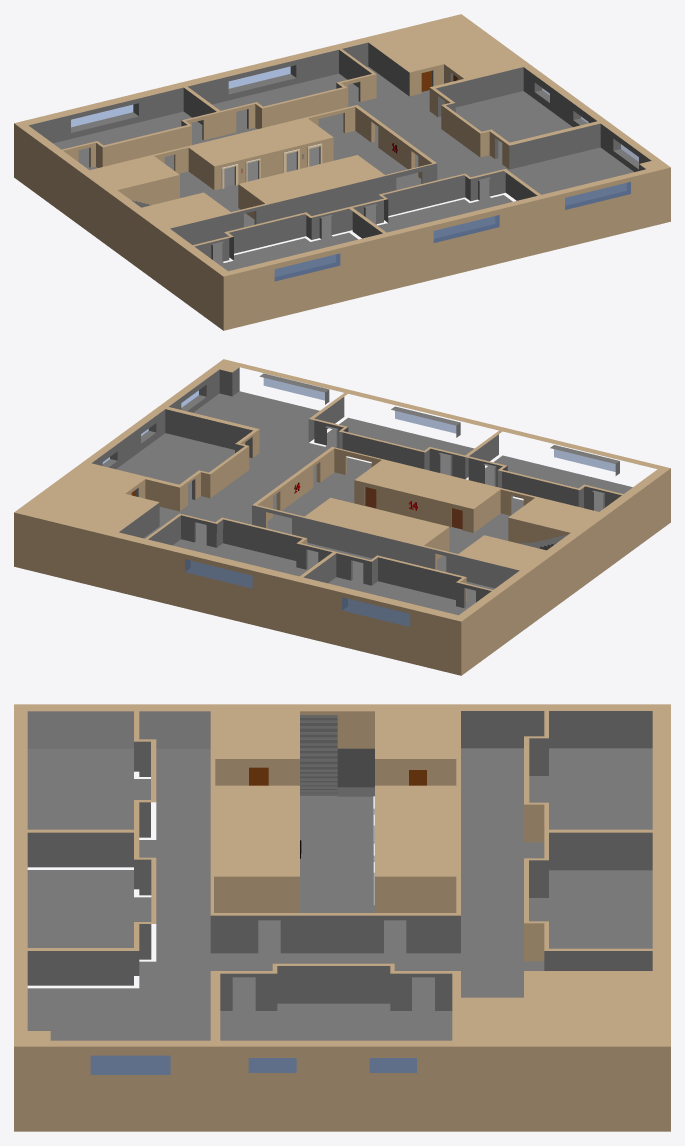
File: 14F-coloredNhan.gltf
3 views of the same model, one above another, from view 1: azimuth 30°, elevation 25°; view 2: azimuth 150°, elevation 25°; view 3: azimuth 270°, elevation 25° (orthographic). The views are drawn at different scales.
Visible parts, largest first — view 1: root; view 2: root; view 3: root.
Boxes of the visible parts, left/top/right/bottom form: root: left=14, top=14, right=670, bottom=330; root: left=14, top=359, right=670, bottom=675; root: left=14, top=704, right=670, bottom=1131.
Size of the model in its own units: 45.38 by 5.25 by 36.81.
